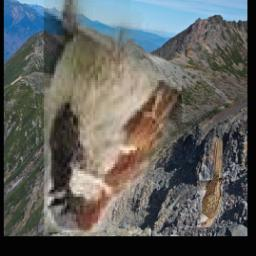Cuckoo: (196, 138, 222, 228)
Sparrow: (43, 0, 181, 232)
